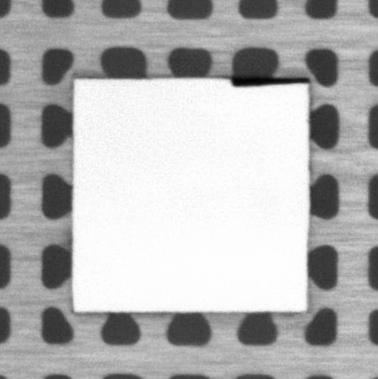DIE_BROKEN: (228, 74, 312, 89)
